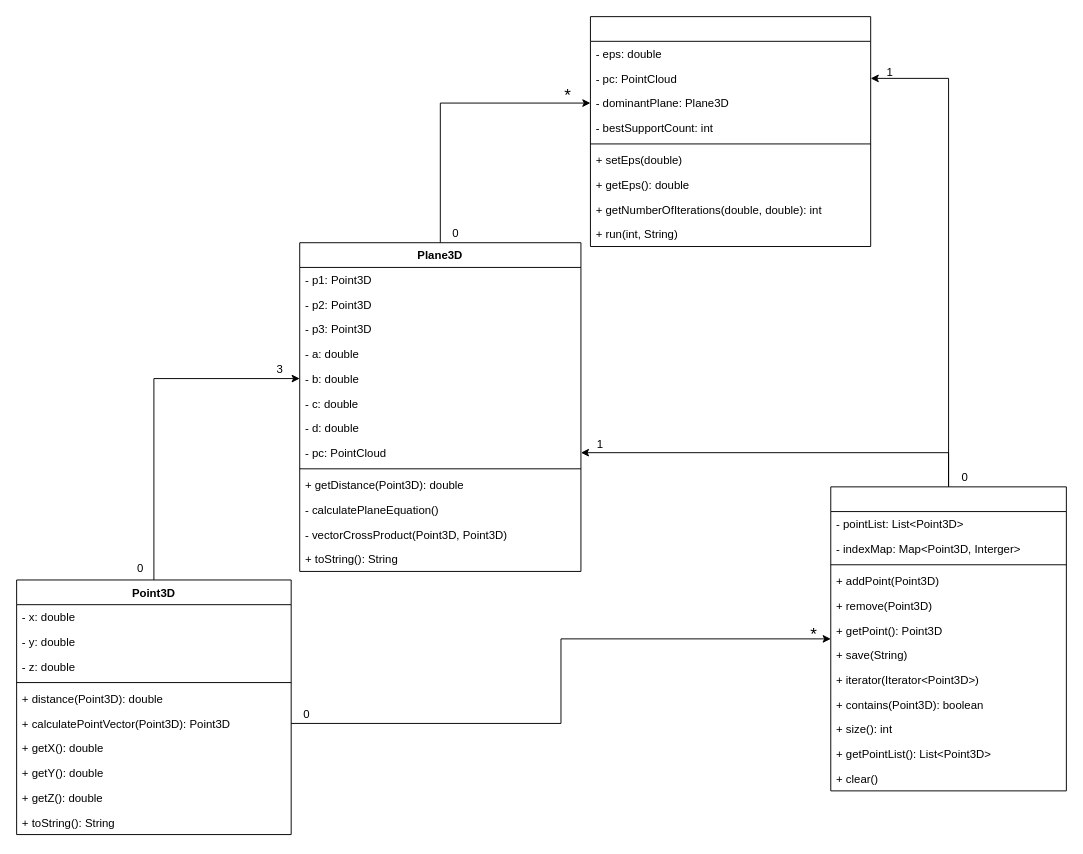
This 1083x854 diagram has some shape labels left out. The box of each missing label's shape, as (x1, y1, x2, y2) in pixels:
PlaneRANSAC: (589, 16, 871, 247)
PointCloud: (830, 486, 1066, 791)
